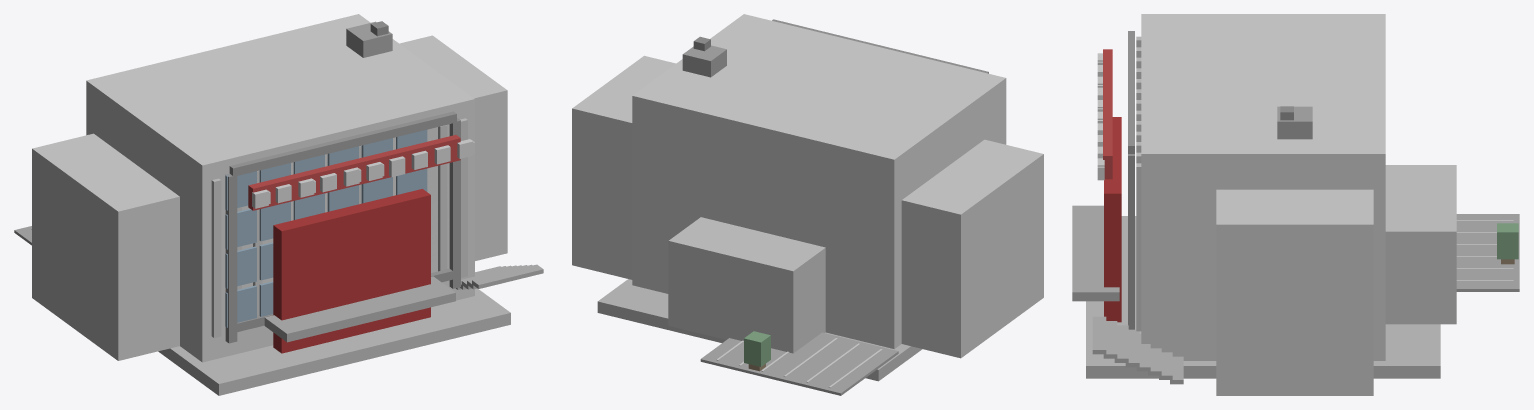
The model's file is bien_del_sur_v2_architectural_9x9.glb.
3 renders of one model, left to right at view 1: azimuth 30°, elevation 25°; view 2: azimuth 150°, elevation 25°; view 3: azimuth 270°, elevation 25°, orthographic. The views are drawn at different scales.
Visible parts, largest first — view 1: main, left_wing, entrance_portal, base, right_wing, canopy, sign_bar, glass_top_frame, glass_left_frame, pilaster_-3.80, glass_right_frame, pilaster_3.17 (+16 smaller); view 2: main, left_wing, service, right_wing, parking, base, ac, tree, glass_top_frame; view 3: main, right_wing, service, base, parking, canopy, entrance_portal, sign_bar, glass_right_frame, ac, pilaster_3.80, glass_top_frame (+5 smaller).
Boxes of the visible parts, <box> form: main: <box>86,14,474,362</box>; left_wing: <box>32,133,179,360</box>; entrance_portal: <box>273,189,430,353</box>; base: <box>158,288,510,395</box>; right_wing: <box>399,35,507,260</box>; canopy: <box>264,276,455,342</box>; sign_bar: <box>248,135,460,210</box>; glass_top_frame: <box>229,111,456,176</box>; glass_left_frame: <box>225,173,237,343</box>; pilaster_-3.80: <box>211,178,221,337</box>; glass_right_frame: <box>449,118,460,288</box>; pilaster_3.17: <box>438,125,447,282</box>; main: <box>632,14,1006,349</box>; left_wing: <box>901,139,1043,358</box>; service: <box>668,217,825,353</box>; right_wing: <box>572,55,675,279</box>; parking: <box>700,332,898,395</box>; base: <box>597,279,922,381</box>; ac: <box>682,45,726,77</box>; tree: <box>744,331,770,366</box>; glass_top_frame: <box>772,19,988,73</box>; main: <box>1141,14,1385,360</box>; right_wing: <box>1216,189,1373,395</box>; service: <box>1385,165,1456,324</box>; base: <box>1086,216,1440,378</box>; parking: <box>1456,214,1519,291</box>; canopy: <box>1072,205,1119,301</box>; entrance_portal: <box>1104,117,1121,322</box>; sign_bar: <box>1103,49,1112,179</box>; glass_right_frame: <box>1128,154,1134,329</box>; ac: <box>1277,106,1312,139</box>; pilaster_3.80: <box>1136,163,1141,331</box>; glass_top_frame: <box>1128,31,1134,153</box>.
Size of the model in its own units: 12.4 by 7.03 by 11.35.
